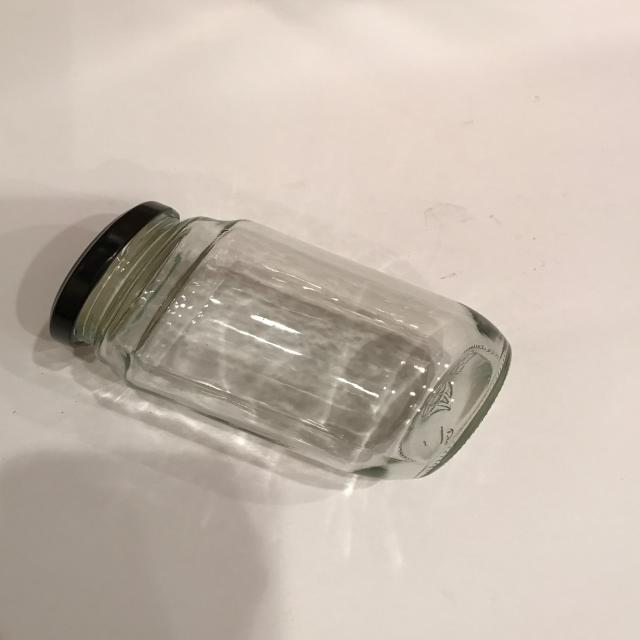Glass: (37, 193, 520, 492)
